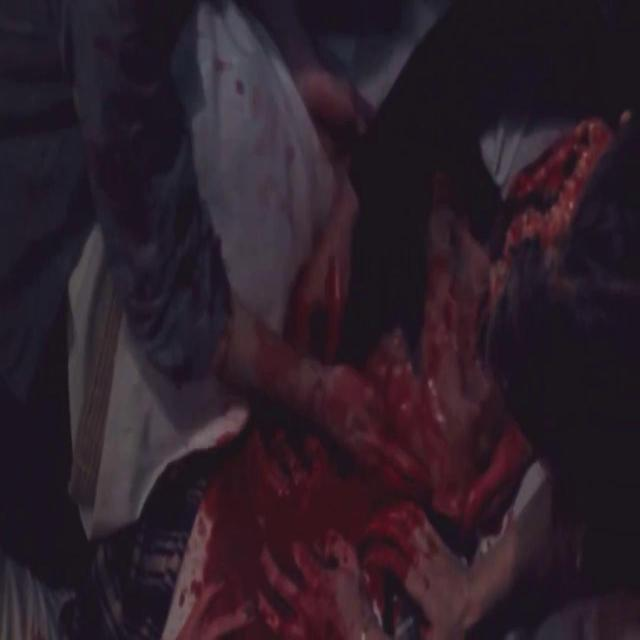flood: (210, 106, 590, 640)
